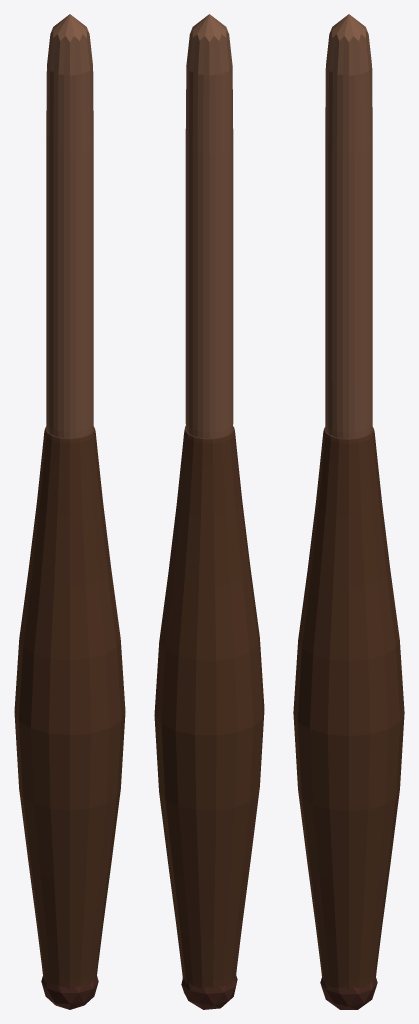
Rendered from Wand 110.glb.
3 views of the same model, side by side, from view 1: azimuth 90°, elevation 25°; view 2: azimuth 210°, elevation 25°; view 3: azimuth 270°, elevation 25° (orthographic).
Visible parts, largest first — view 1: GeneratedWand; view 2: GeneratedWand; view 3: GeneratedWand.
Boxes of the visible parts, x1,y1,x2,y2 form: GeneratedWand: [14, 14, 125, 1009]; GeneratedWand: [154, 14, 264, 1009]; GeneratedWand: [293, 14, 404, 1009].
Size of the model in its own units: 0.0499 by 0.4921 by 0.0499.
